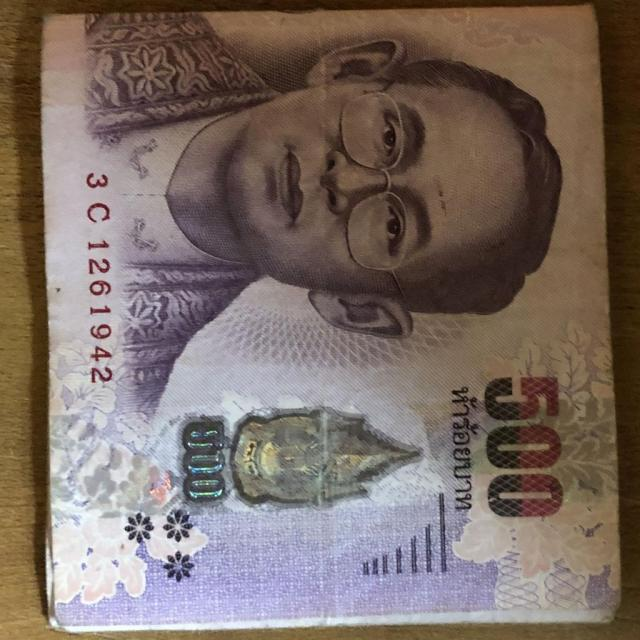THAI500: (41, 6, 620, 631)
